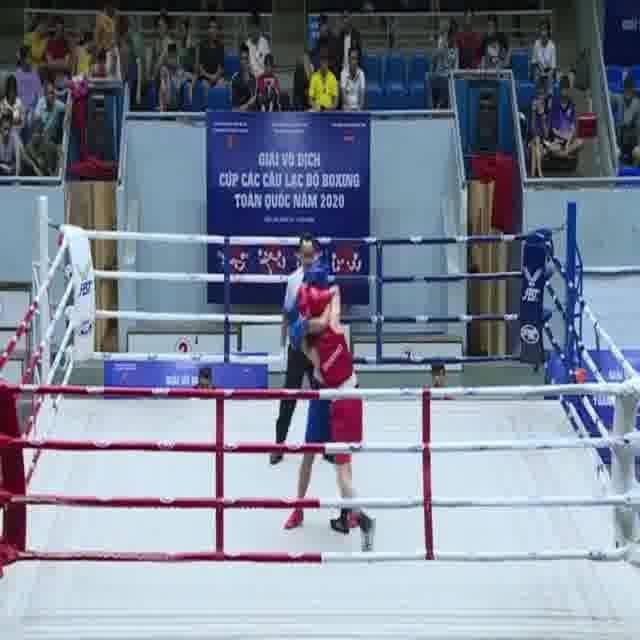blue-player: (284, 259, 361, 534)
red-player: (297, 281, 379, 539)
referee: (270, 234, 341, 468)
